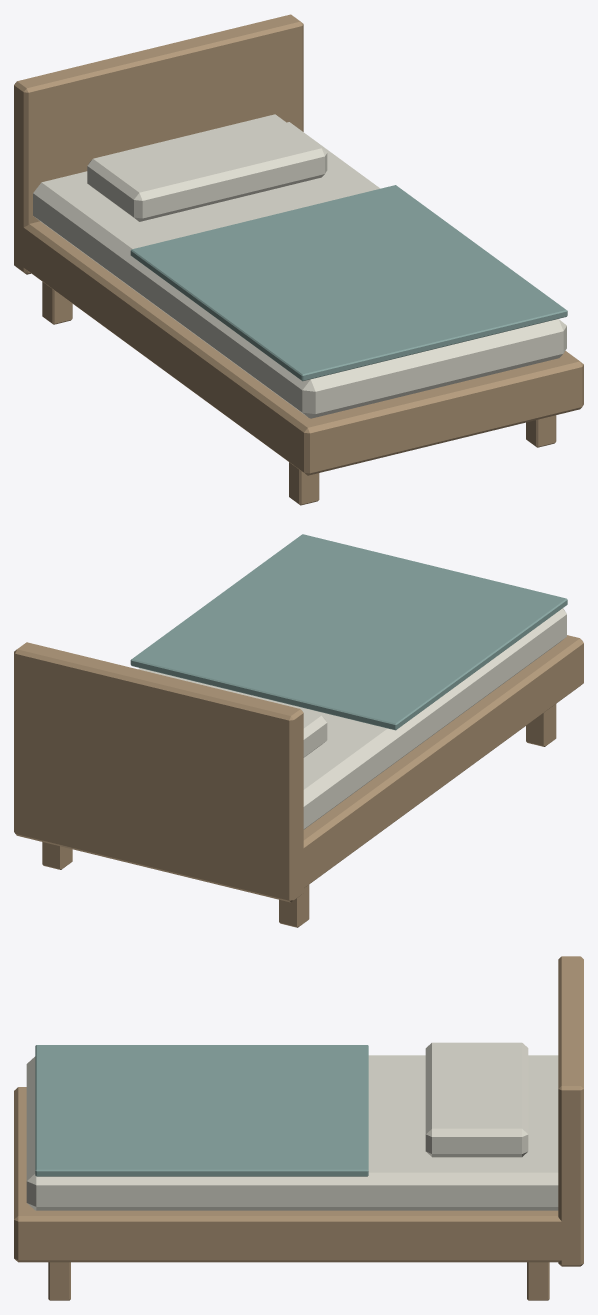
The model's file is bed.fbx.
The picture shows the model from 3 angles, top to bottom: view 1: azimuth 30°, elevation 25°; view 2: azimuth 150°, elevation 25°; view 3: azimuth 270°, elevation 25°; orthographic projection. The views are drawn at different scales.
Parts seen in each view (by area): view 1: bed; view 2: bed; view 3: bed.
Boxes of the visible parts, x1,y1,x2,y2 form: bed: [14, 14, 583, 505]; bed: [14, 534, 583, 927]; bed: [14, 956, 583, 1300].
Size of the model in its own units: 1.1 by 0.85 by 2.
